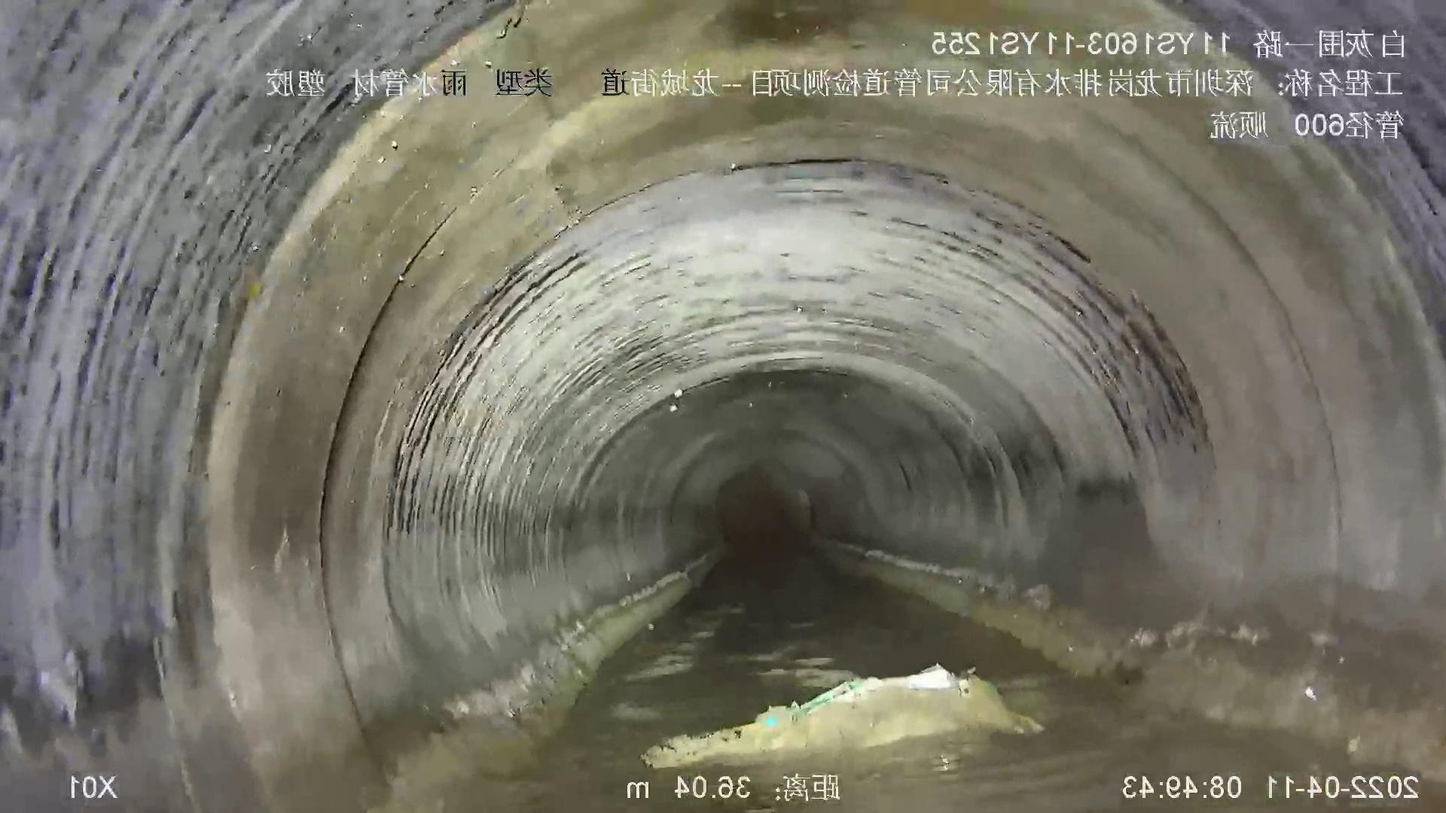ZAW: (644, 665, 1042, 768)
